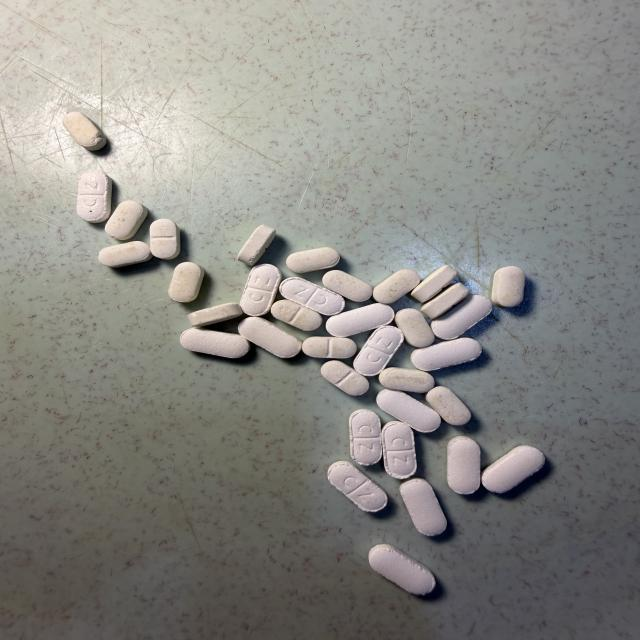pill: (369, 544, 435, 595), (328, 461, 387, 512), (482, 446, 544, 493), (431, 295, 492, 339), (400, 478, 446, 536), (377, 390, 440, 432), (239, 317, 301, 358), (354, 326, 403, 376), (280, 277, 344, 315), (411, 338, 481, 371), (326, 304, 394, 336), (240, 264, 281, 316), (180, 329, 249, 358), (382, 422, 416, 479), (447, 436, 480, 494), (77, 171, 112, 223), (349, 409, 381, 465), (421, 283, 470, 319), (426, 386, 471, 425), (411, 265, 457, 302), (321, 360, 369, 395), (63, 112, 106, 150), (373, 269, 419, 304), (105, 201, 147, 239), (323, 270, 372, 302), (271, 300, 322, 330), (238, 225, 275, 266), (395, 309, 434, 347), (169, 262, 204, 302), (98, 241, 151, 267), (286, 247, 339, 273), (379, 368, 434, 393), (492, 266, 525, 307), (188, 303, 242, 326), (150, 219, 180, 259), (303, 337, 357, 359)
